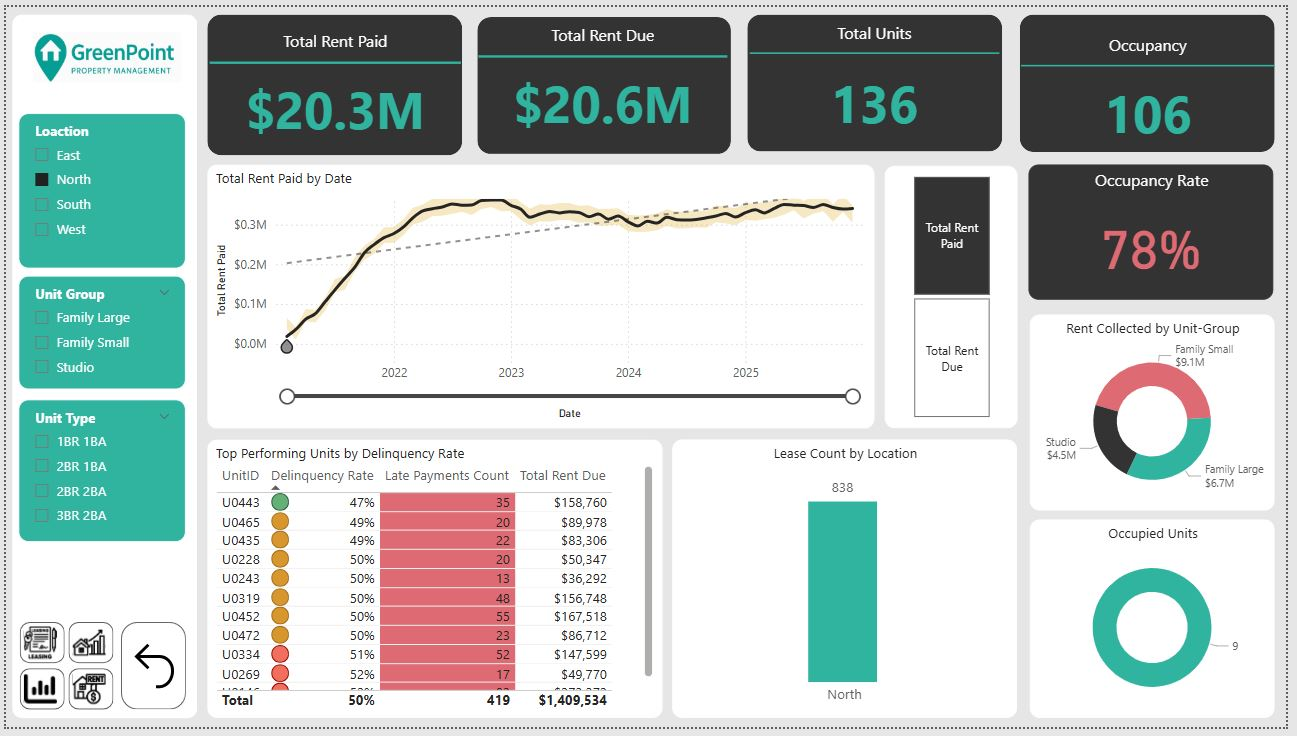

Layout of this report page (visuals, bound fields, positions):
{"tool":"powerbi","page":{"name":"Exec Summary","canvas":[1280,720],"ordinal":0},"visuals":[{"type":"group","id":"g1","title":"KPI","box":[201.4,3.7,1067,284.1],"z":0},{"type":"shape","box":[471.9,10.3,253.9,137.1],"z":0,"group":"g4"},{"type":"kpi","title":"Collection Rate","fields":{"Indicator":["Measures Table.Occupancy Rate"]},"box":[768.4,163.8,232.3,124.1],"z":0,"group":"g1"},{"type":"shape","box":[201.4,8,255,140.9],"z":500,"group":"g5"},{"type":"shape","box":[740.9,7.7,255,137.1],"z":750,"group":"g2"},{"type":"shape","box":[1013.4,7.5,255,137.5],"z":875,"group":"g3"},{"type":"group","id":"g2","title":"Group 3","box":[740.9,3.7,255,141.2],"z":1000,"group":"g1"},{"type":"card","title":"Total Rent Due","fields":{"Values":["Measures Table.Total Rent Due"]},"box":[473.5,16.5,248.8,122.5],"z":1000,"group":"g4"},{"type":"clusteredColumnChart","title":"Lease Count by Location","fields":{"Category":["Units.Location"],"Y":["CountNonNull(Leases.Occupancy Status)"]},"box":[666.2,432.5,345,278.8],"z":1000},{"type":"group","id":"g3","title":"Group 4","box":[1013.4,7.5,255,137.5],"z":2000,"group":"g1"},{"type":"card","title":"Total Rent Paid","fields":{"Values":["Measures Table.Total Rent Paid"]},"box":[203.6,22.7,251.3,122.7],"z":2000,"group":"g5"},{"type":"donutChart","title":"Rent Collected by Unit-Group","fields":{"Y":["Measures Table.Total Rent Paid"],"Category":["Units.UnitGroup"]},"box":[1023.8,307.5,245,196.2],"z":2000},{"type":"group","id":"g4","title":"Group 2","box":[471.9,10.3,253.9,137.1],"z":3000,"group":"g1"},{"type":"donutChart","title":"Occupied Units","fields":{"Category":["Leases.Occupancy Status"],"Y":["CountNonNull(Leases.Occupancy Status)"]},"box":[1023.8,512.5,245,198.8],"z":3000},{"type":"group","id":"g5","title":"Group 1","box":[201.4,8,255,140],"z":4000,"group":"g1"},{"type":"card","title":"Occupancy Rate","fields":{"Values":["Measures Table.Occupancy Rate"]},"box":[1022.5,157.5,245,135],"z":4000},{"type":"tableEx","title":"Top Performing Units by Delinquency Rate","fields":{"Values":["Units.UnitID","Measures Table.Delinquency Rate","Measures Table.Late Payments Count","Measures Table.Total Rent Due"]},"box":[201.2,432.5,455,278.8],"z":5000},{"type":"card","title":"Occupancy","fields":{"Values":["Leases.Currently Occupied Units"]},"box":[1014.6,16.7,253.7,128.8],"z":6000,"group":"g3"},{"type":"lineChart","fields":{"Y":["Measures Table.Total Rent Paid"],"Category":["DateTable.Date"]},"box":[201.2,157.5,667.5,263.8],"z":6000},{"type":"slicer","fields":{"Values":["Rent Paid/Rent Due.Rent Paid/Rent Due"]},"box":[878.8,158.8,132.5,262.5],"z":7000},{"type":"card","title":"Total Units","fields":{"Values":["CountNonNull(Units.UnitID)"]},"box":[743.5,3.7,249.5,132.5],"z":8000,"group":"g2"},{"type":"shape","title":"Left Nav. Background","box":[6.2,7.5,185,703.8],"z":8000},{"type":"slicer","fields":{"Values":["Units.Location"]},"box":[12.5,106.2,167.5,155],"z":9000},{"type":"slicer","fields":{"Values":["Units.UnitGroup"]},"box":[12.5,268.8,167.5,113.8],"z":10000},{"type":"actionButton","box":[115,615.2,65,87.5],"z":11000},{"type":"image","box":[22.5,20,157.5,60],"z":12000},{"type":"actionButton","box":[13.8,615.2,45,41.2],"z":13000},{"type":"actionButton","box":[62.5,615.2,45,41.2],"z":14000},{"type":"actionButton","box":[62.5,661.5,45,41.2],"z":15000},{"type":"actionButton","box":[13.8,661.5,45,41.2],"z":16000},{"type":"slicer","fields":{"Values":["Units.UnitType"]},"box":[12.5,392.5,167.5,142.5],"z":17000}]}

Visuals, with their boxes in screenshot pixels (x1, y1, x2, y2), scaled from the page's 1280x720 canvas onto the 1297x736 screenshot:
"KPI" group: (204, 4, 1285, 294)
shape: (478, 11, 735, 151)
"Collection Rate" kpi: (779, 167, 1014, 294)
shape: (204, 8, 462, 152)
shape: (751, 8, 1009, 148)
shape: (1027, 8, 1285, 148)
"Group 3" group: (751, 4, 1009, 148)
"Total Rent Due" card: (480, 17, 732, 142)
"Lease Count by Location" clusteredColumnChart: (675, 442, 1025, 727)
"Group 4" group: (1027, 8, 1285, 148)
"Total Rent Paid" card: (206, 23, 461, 149)
"Rent Collected by Unit-Group" donutChart: (1037, 314, 1286, 515)
"Group 2" group: (478, 11, 735, 151)
"Occupied Units" donutChart: (1037, 524, 1286, 727)
"Group 1" group: (204, 8, 462, 151)
"Occupancy Rate" card: (1036, 161, 1284, 299)
"Top Performing Units by Delinquency Rate" tableEx: (204, 442, 665, 727)
"Occupancy" card: (1028, 17, 1285, 149)
lineChart - Measures Table.Total Rent Paid x DateTable.Date: (204, 161, 880, 431)
slicer - Rent Paid/Rent Due.Rent Paid/Rent Due: (890, 162, 1025, 431)
"Total Units" card: (753, 4, 1006, 139)
"Left Nav. Background" shape: (6, 8, 194, 727)
slicer - Units.Location: (13, 109, 182, 267)
slicer - Units.UnitGroup: (13, 275, 182, 391)
actionButton: (117, 629, 182, 718)
image: (23, 20, 182, 82)
actionButton: (14, 629, 60, 671)
actionButton: (63, 629, 109, 671)
actionButton: (63, 676, 109, 718)
actionButton: (14, 676, 60, 718)
slicer - Units.UnitType: (13, 401, 182, 547)
